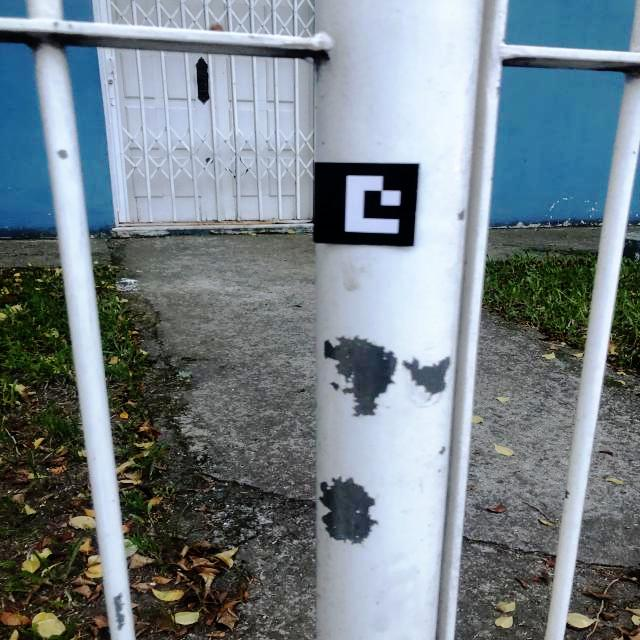Corrosion: (163, 220, 290, 225), (117, 211, 160, 224), (304, 220, 313, 223), (245, 169, 249, 173), (233, 175, 236, 180), (229, 168, 232, 173), (266, 140, 268, 142)
